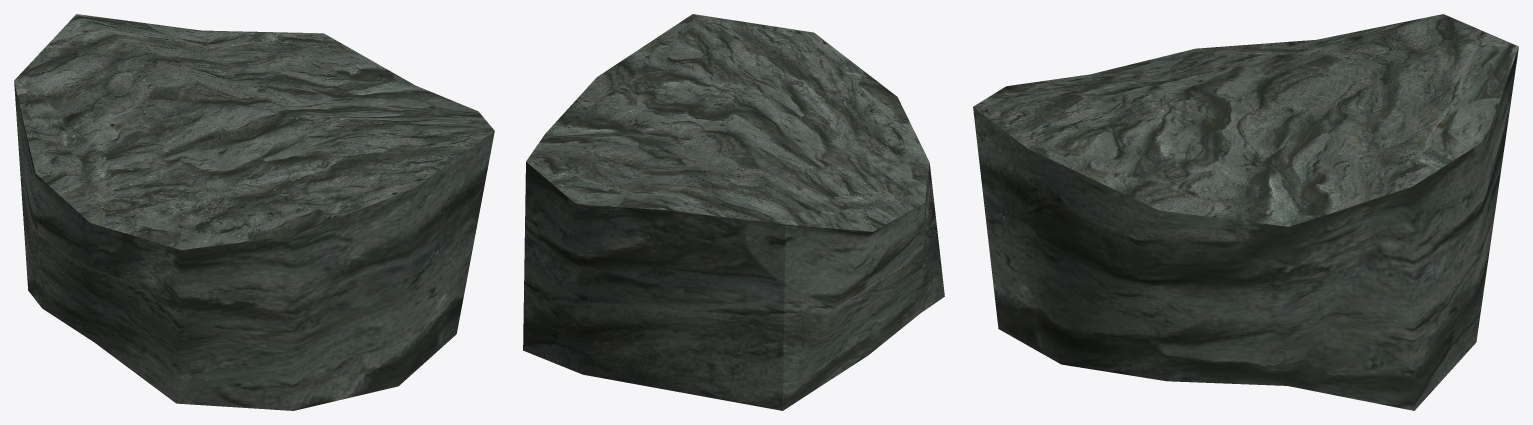
Rendered from rocks_11.glb.
The picture shows the model from 3 angles, left to right: view 1: azimuth 30°, elevation 25°; view 2: azimuth 150°, elevation 25°; view 3: azimuth 270°, elevation 25°; orthographic projection. The views are drawn at different scales.
Visible parts, largest first — view 1: 11-512 (×2); view 2: 11-512 (×2); view 3: 11-512 (×2).
Boxes of the visible parts, box(x1,y1,x2,y2) form: 11-512 (×2): box(14, 14, 494, 410); 11-512 (×2): box(523, 14, 944, 410); 11-512 (×2): box(973, 14, 1518, 410).
Size of the model in its own units: 9.27 by 5.63 by 10.8.
Materials: 1 (1 with a texture image).
